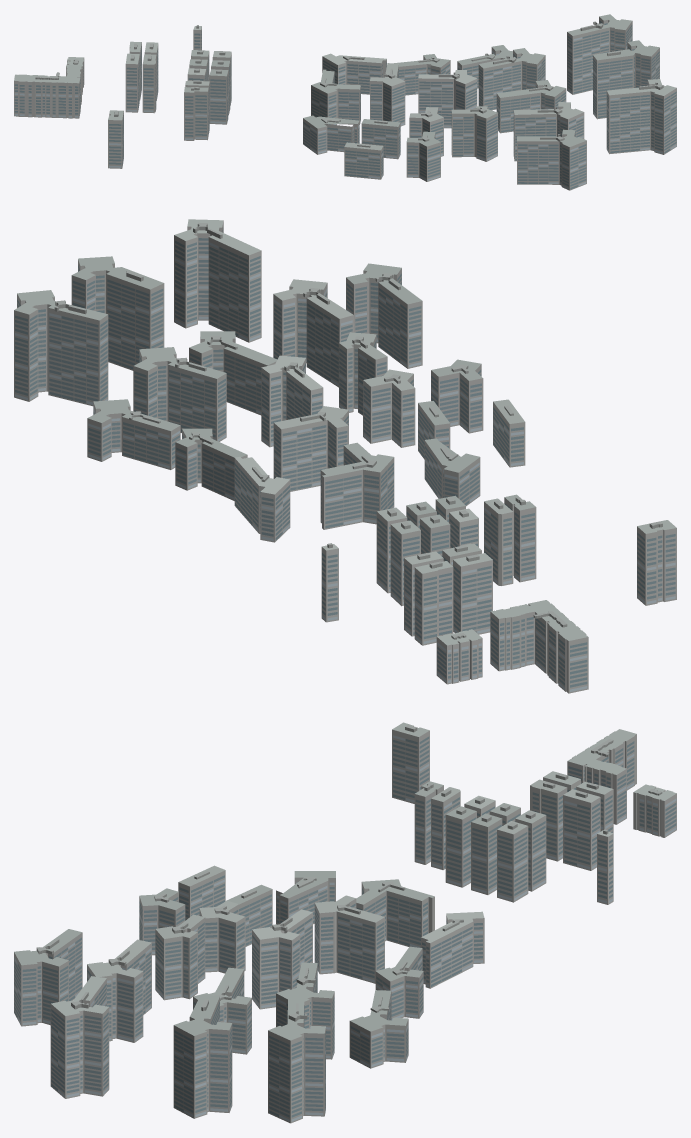
Rendered from apt-a13003007.glb.
The picture shows the model from 3 angles, top to bottom: view 1: azimuth 30°, elevation 25°; view 2: azimuth 150°, elevation 25°; view 3: azimuth 270°, elevation 25°; orthographic projection. The views are drawn at different scales.
Visible parts, largest first — view 1: apt-a13003007; view 2: apt-a13003007; view 3: apt-a13003007.
Part boxes in pixels (box(x1,y1,x2,y2)): apt-a13003007: box(14, 14, 676, 190); apt-a13003007: box(14, 219, 676, 693); apt-a13003007: box(14, 722, 676, 1123).
Bounding box in the file's own units: 496 × 58 × 403.
